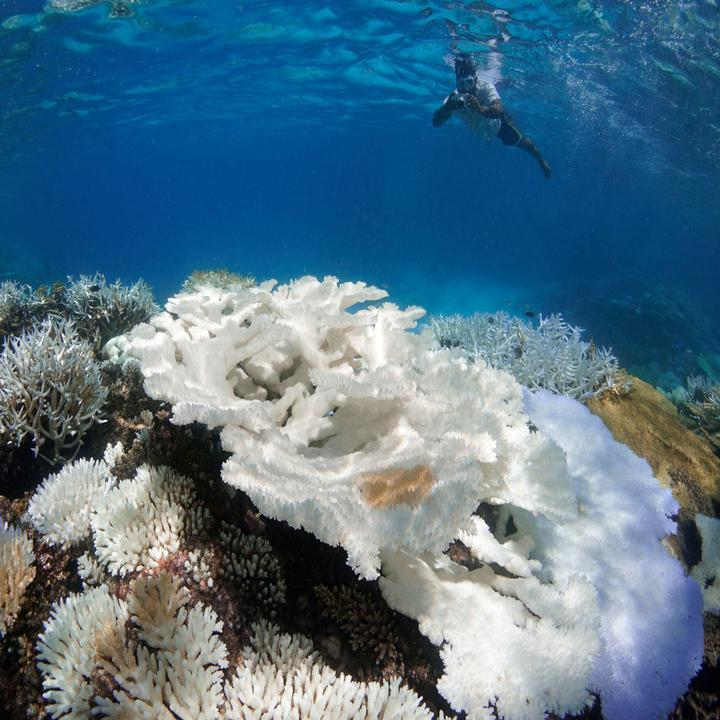Bleached disease: (13, 292, 712, 716)
